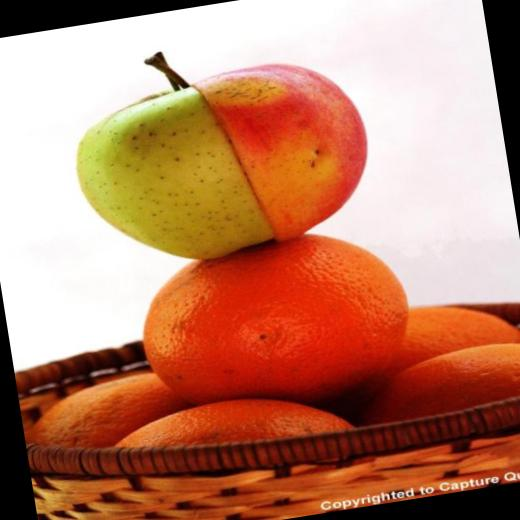Apple: (52, 33, 387, 290)
Grape: (120, 214, 428, 429), (104, 376, 360, 469), (18, 366, 189, 456), (382, 339, 520, 419), (385, 289, 517, 365)
